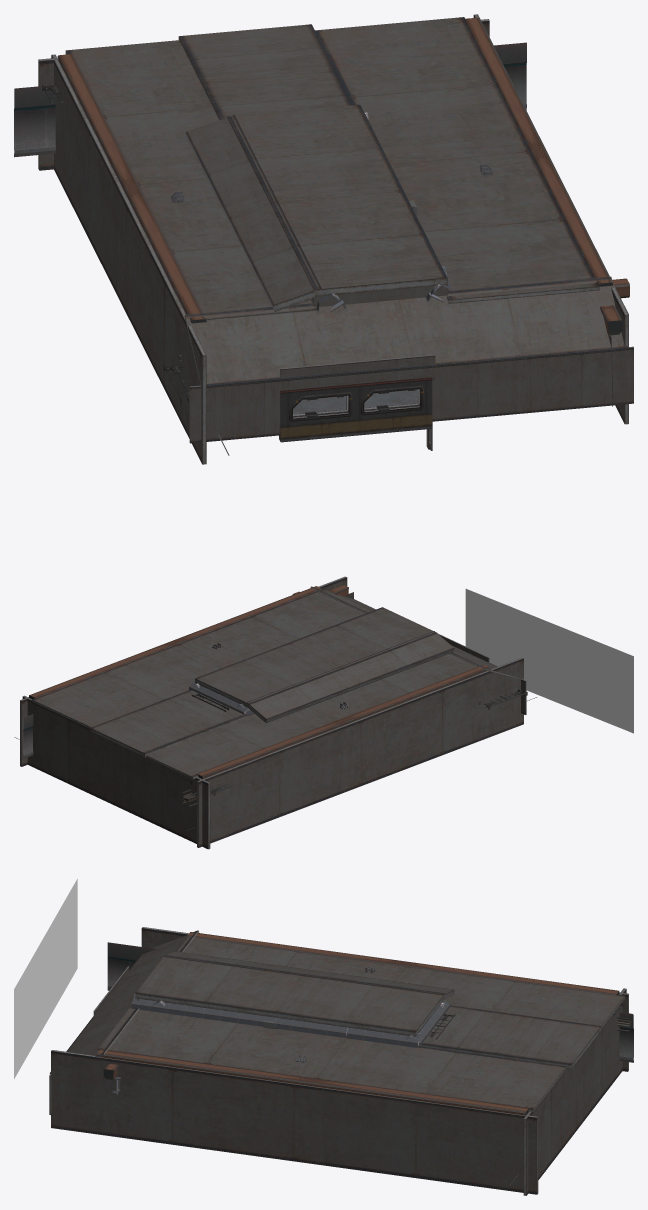
3 renders of one model, top to bottom at view 1: azimuth 30°, elevation 25°; view 2: azimuth 150°, elevation 25°; view 3: azimuth 270°, elevation 25°, orthographic. The views are drawn at different scales.
Parts seen in each view (by area): view 1: s_gacha_training_07 (×13), s_gacha_BuildingPlinth_b_01 (×2), s_gacha_trainingwall_02 (×2), s_gacha_trainingwall_01 (2), s_gacha_BuildingPlinth_a_01 (×2), s_gacha_trainingwall_01, s_gacha_floor_04 (1); view 2: s_gacha_training_07 (×9), s_Aimo_trainingplatform_01, s_gacha_BuildingPlinth_b_01 (×2), s_gacha_BuildingPlinth_a_01 (×2), s_gacha_catwalk01, s_gacha_trainingwall_01 (4); view 3: s_gacha_training_07 (×9), s_Aimo_trainingplatform_01, s_gacha_BuildingPlinth_b_01 (×2), s_gacha_catwalk01 (×5), s_gacha_BuildingPlinth_a_01 (×2), s_gacha_trainingwall_01 (10), s_gacha_trainingwall_01 (15).
Boxes of the visible parts, <box> form: s_gacha_training_07 (×13): <box>38,14,633,464</box>; s_gacha_BuildingPlinth_b_01 (×2): <box>59,17,610,319</box>; s_gacha_trainingwall_02 (×2): <box>279,376,432,442</box>; s_gacha_trainingwall_01 (2): <box>14,85,55,157</box>; s_gacha_BuildingPlinth_a_01 (×2): <box>57,17,612,323</box>; s_gacha_trainingwall_01: <box>494,42,526,110</box>; s_gacha_floor_04 (1): <box>300,391,403,412</box>; s_gacha_training_07 (×9): <box>20,576,523,849</box>; s_Aimo_trainingplatform_01: <box>465,589,633,733</box>; s_gacha_BuildingPlinth_b_01 (×2): <box>30,586,488,778</box>; s_gacha_BuildingPlinth_a_01 (×2): <box>29,586,489,778</box>; s_gacha_catwalk01: <box>188,680,247,714</box>; s_gacha_trainingwall_01 (4): <box>23,714,33,758</box>; s_gacha_training_07 (×9): <box>49,927,628,1195</box>; s_Aimo_trainingplatform_01: <box>14,879,77,1078</box>; s_gacha_BuildingPlinth_b_01 (×2): <box>96,932,618,1115</box>; s_gacha_catwalk01 (×5): <box>131,994,450,1047</box>; s_gacha_BuildingPlinth_a_01 (×2): <box>97,932,619,1114</box>; s_gacha_trainingwall_01 (10): <box>107,942,156,990</box>; s_gacha_trainingwall_01 (15): <box>619,1012,633,1062</box>.
Bounding box in the file's own units: 52.98 × 10.45 × 56.01.
35 materials, 29 textured.
